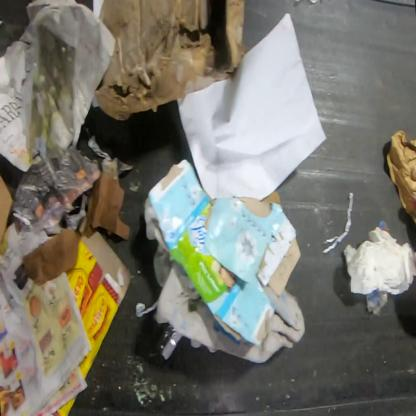cardboard: (146, 159, 302, 347), (95, 0, 247, 122), (68, 232, 132, 384), (0, 175, 14, 258)
